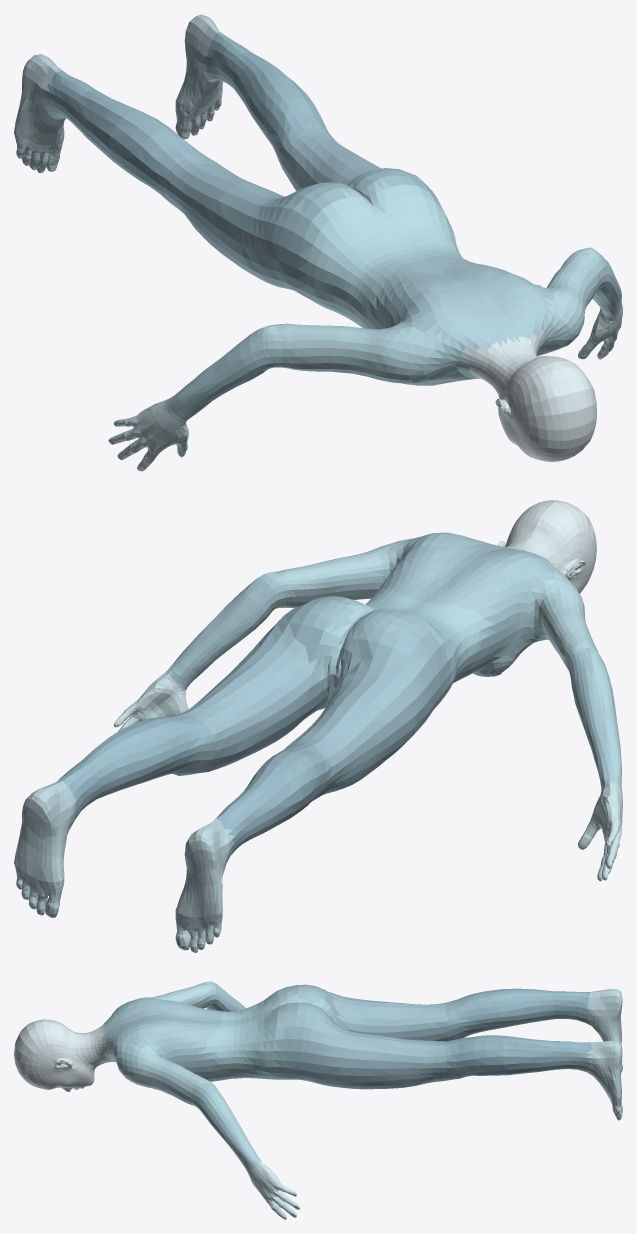
Rendered from crew_C4.glb.
3 views of the same model, one above another, from view 1: azimuth 30°, elevation 25°; view 2: azimuth 150°, elevation 25°; view 3: azimuth 270°, elevation 25° (orthographic). The views are drawn at different scales.
Parts seen in each view (by area): view 1: chest, abdomen, right_thigh, right_upper_arm, head, right_lower_leg, left_lower_leg, right_foot, left_thigh, left_upper_arm, right_forearm, left_foot (+5 smaller); view 2: right_thigh, left_thigh, abdomen, left_lower_leg, chest, right_lower_leg, left_foot, right_foot, left_upper_arm, left_forearm, right_forearm, head (+5 smaller); view 3: left_thigh, chest, abdomen, left_lower_leg, right_lower_leg, right_thigh, head, left_upper_arm, left_forearm, left_foot, right_foot, left_hand (+4 smaller).
Part boxes in pixels (x1=…): chest: x1=297, y1=177, x2=465, y2=329; abdomen: x1=371, y1=255, x2=555, y2=385; right_thigh: x1=159, y1=153, x2=315, y2=299; right_upper_arm: x1=263, y1=322, x2=478, y2=384; head: x1=495, y1=356, x2=596, y2=461; right_lower_leg: x1=44, y1=70, x2=207, y2=196; left_lower_leg: x1=202, y1=32, x2=327, y2=146; right_foot: x1=14, y1=54, x2=65, y2=172; left_thigh: x1=273, y1=122, x2=435, y2=195; left_upper_arm: x1=536, y1=248, x2=604, y2=356; right_forearm: x1=162, y1=324, x2=276, y2=420; left_foot: x1=175, y1=14, x2=222, y2=139; right_thigh: x1=285, y1=628, x2=452, y2=799; left_thigh: x1=175, y1=605, x2=328, y2=775; abdomen: x1=377, y1=532, x2=555, y2=677; left_lower_leg: x1=57, y1=714, x2=211, y2=819; chest: x1=317, y1=588, x2=496, y2=710; right_lower_leg: x1=214, y1=743, x2=332, y2=854; left_foot: x1=14, y1=781, x2=76, y2=917; right_foot: x1=175, y1=818, x2=235, y2=952; left_upper_arm: x1=267, y1=538, x2=411, y2=608; left_forearm: x1=165, y1=572, x2=278, y2=689; right_forearm: x1=569, y1=650, x2=621, y2=788; head: x1=498, y1=500, x2=596, y2=593; left_thigh: x1=273, y1=1007, x2=458, y2=1089; chest: x1=197, y1=987, x2=338, y2=1081; abdomen: x1=100, y1=998, x2=222, y2=1081; left_lower_leg: x1=445, y1=1035, x2=591, y2=1078; right_lower_leg: x1=444, y1=988, x2=592, y2=1037; right_thigh: x1=306, y1=984, x2=471, y2=1041; head: x1=14, y1=1019, x2=98, y2=1091; left_upper_arm: x1=108, y1=1036, x2=212, y2=1107; left_forearm: x1=196, y1=1082, x2=261, y2=1169; left_foot: x1=586, y1=1040, x2=622, y2=1120; right_foot: x1=584, y1=989, x2=622, y2=1072; left_hand: x1=246, y1=1161, x2=299, y2=1219.
Size of the model in its own units: 1.03 by 0.4421 by 1.64.
